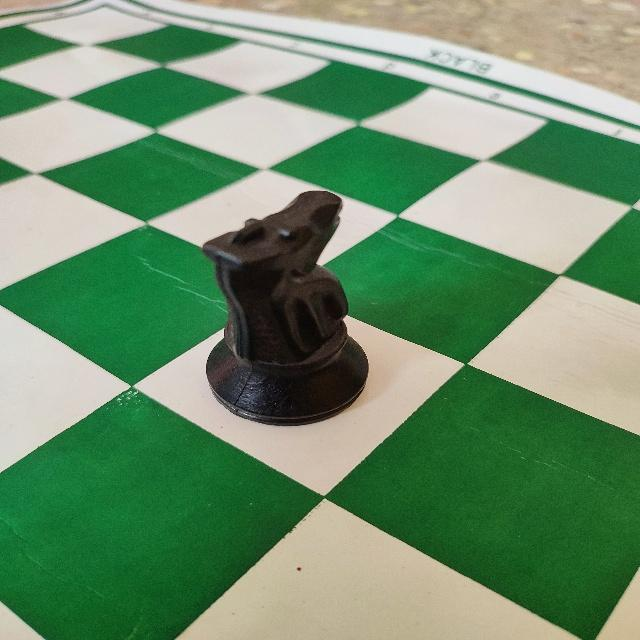Knight: (195, 185, 385, 430)
